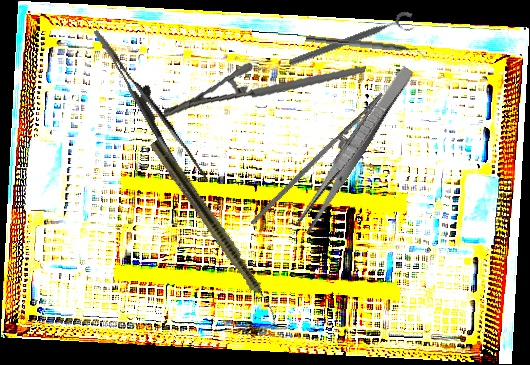Chopper: (304, 35, 428, 61)
Dressing Forceps: (293, 62, 416, 236)
Fixation Ring: (286, 8, 419, 77)
Handpiece: (147, 137, 286, 327)
Needle Holder: (249, 77, 396, 249), (162, 41, 367, 143)
Tissue Forceps: (93, 15, 209, 198)
